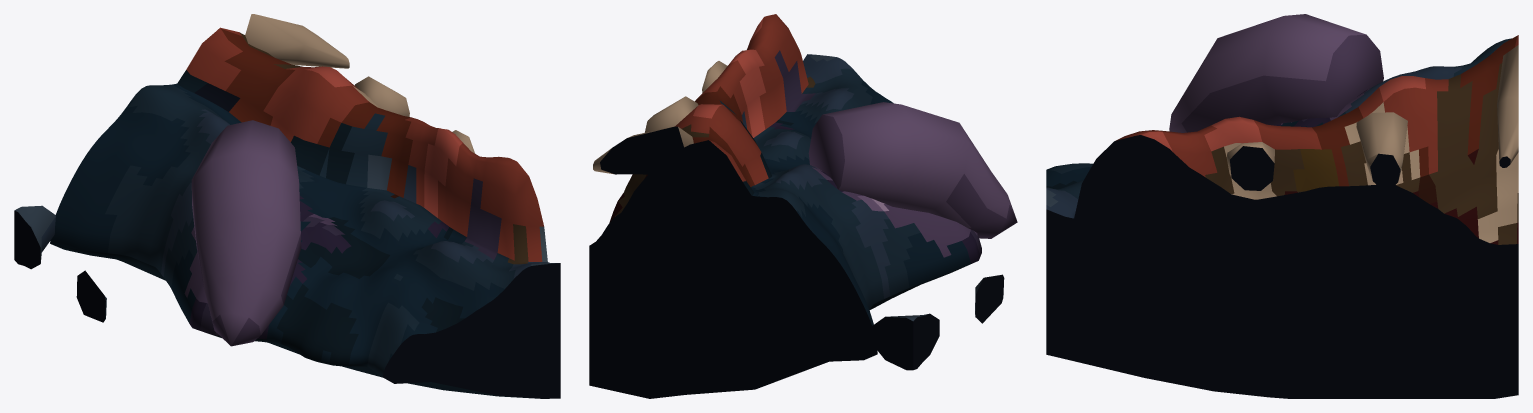
Rendered from newshn-155.glb.
The picture shows the model from 3 angles, left to right: view 1: azimuth 30°, elevation 25°; view 2: azimuth 150°, elevation 25°; view 3: azimuth 270°, elevation 25°; orthographic projection. The views are drawn at different scales.
Visible parts, largest first — view 1: newshn-155; view 2: newshn-155; view 3: newshn-155.
Part boxes in pixels (x1,y1,x2,y2): newshn-155: [14, 14, 560, 398]; newshn-155: [589, 14, 1017, 398]; newshn-155: [1046, 14, 1518, 398].
Size of the model in its own units: 2 by 1.68 by 2.33.
